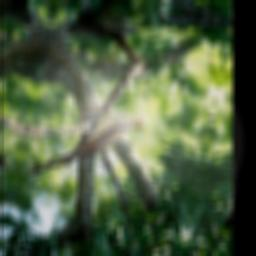Cuckoo: (24, 93, 148, 200)
